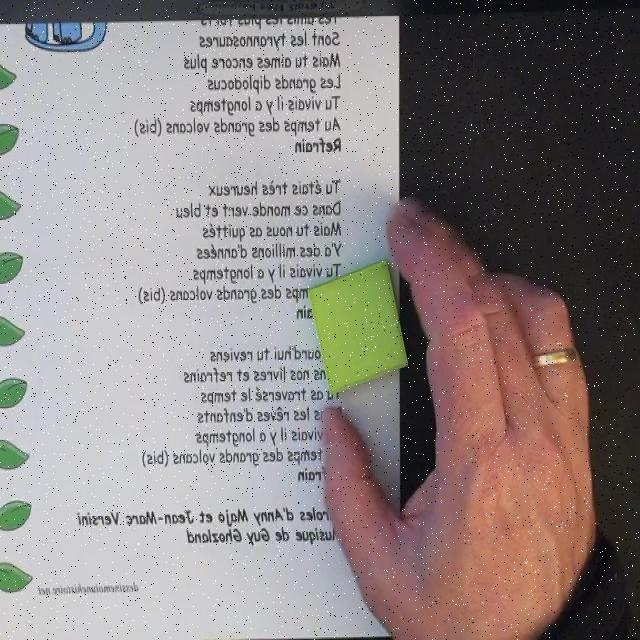square: (309, 262, 408, 393)
